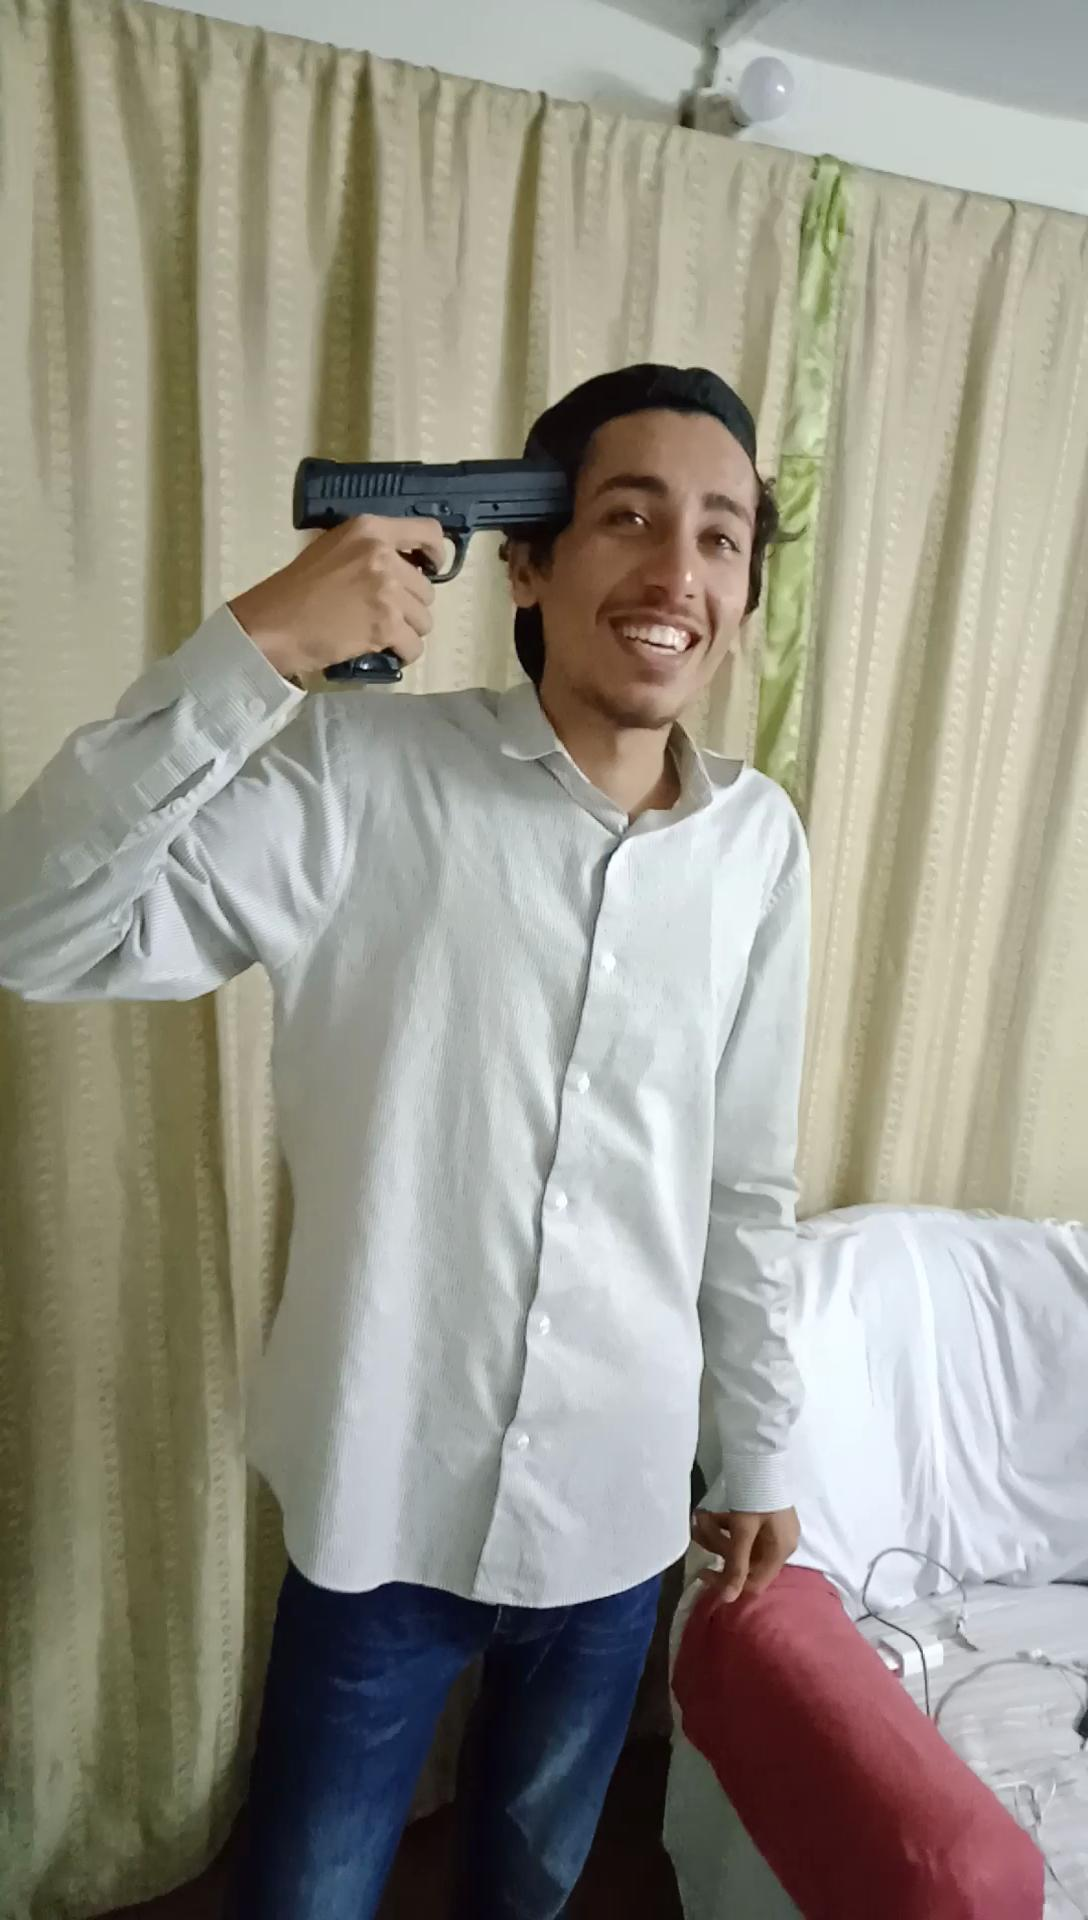criminal: (0, 351, 822, 1920)
weapon: (291, 446, 582, 700)
